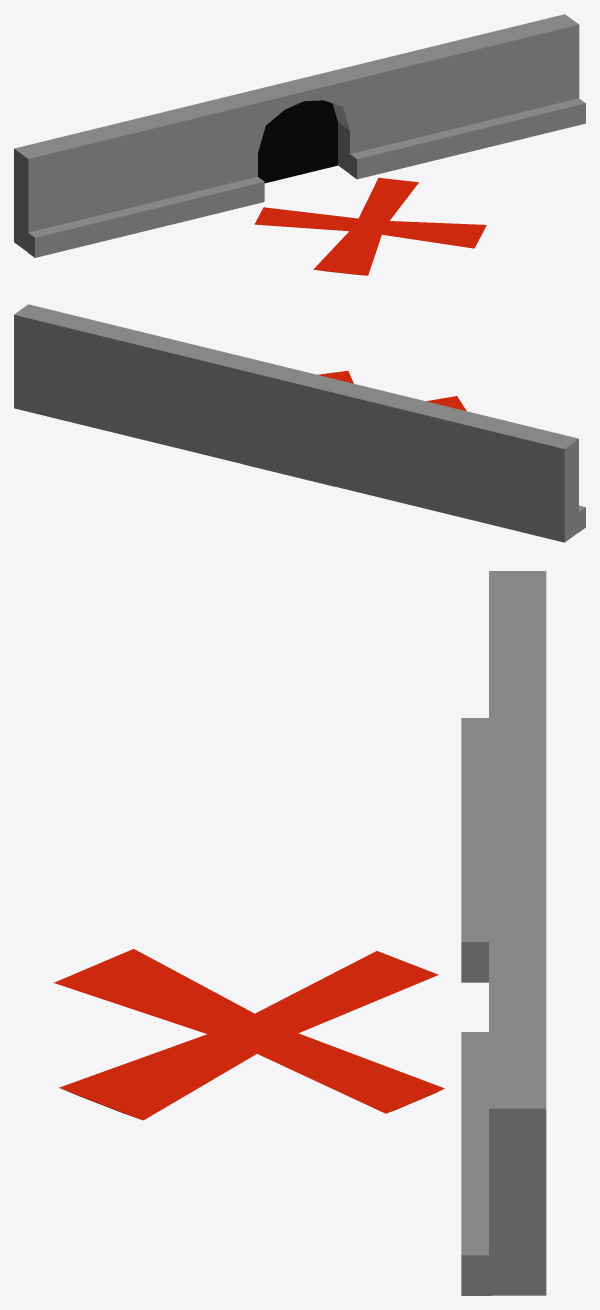
File: RatoneraNivel.fbx
3 views of the same model, one above another, from view 1: azimuth 30°, elevation 25°; view 2: azimuth 150°, elevation 25°; view 3: azimuth 270°, elevation 25° (orthographic). The views are drawn at different scales.
Visible parts, largest first — view 1: polySurface2, pCube7, polySurface1, polySurface3; view 2: polySurface2, pCube7; view 3: polySurface2, pCube7, polySurface1, polySurface3.
Part boxes in pixels (<box>): polySurface2: <box>14,14,579,251</box>; pCube7: <box>254,177,486,275</box>; polySurface1: <box>27,176,264,257</box>; polySurface3: <box>349,98,585,179</box>; polySurface2: <box>14,304,578,542</box>; pCube7: <box>317,370,466,410</box>; polySurface2: <box>489,571,546,1295</box>; pCube7: <box>54,949,444,1120</box>; polySurface1: <box>461,718,488,982</box>; polySurface3: <box>461,1032,491,1295</box>.
Bounding box in the file's own units: 23.96 × 3.9 × 9.28.
